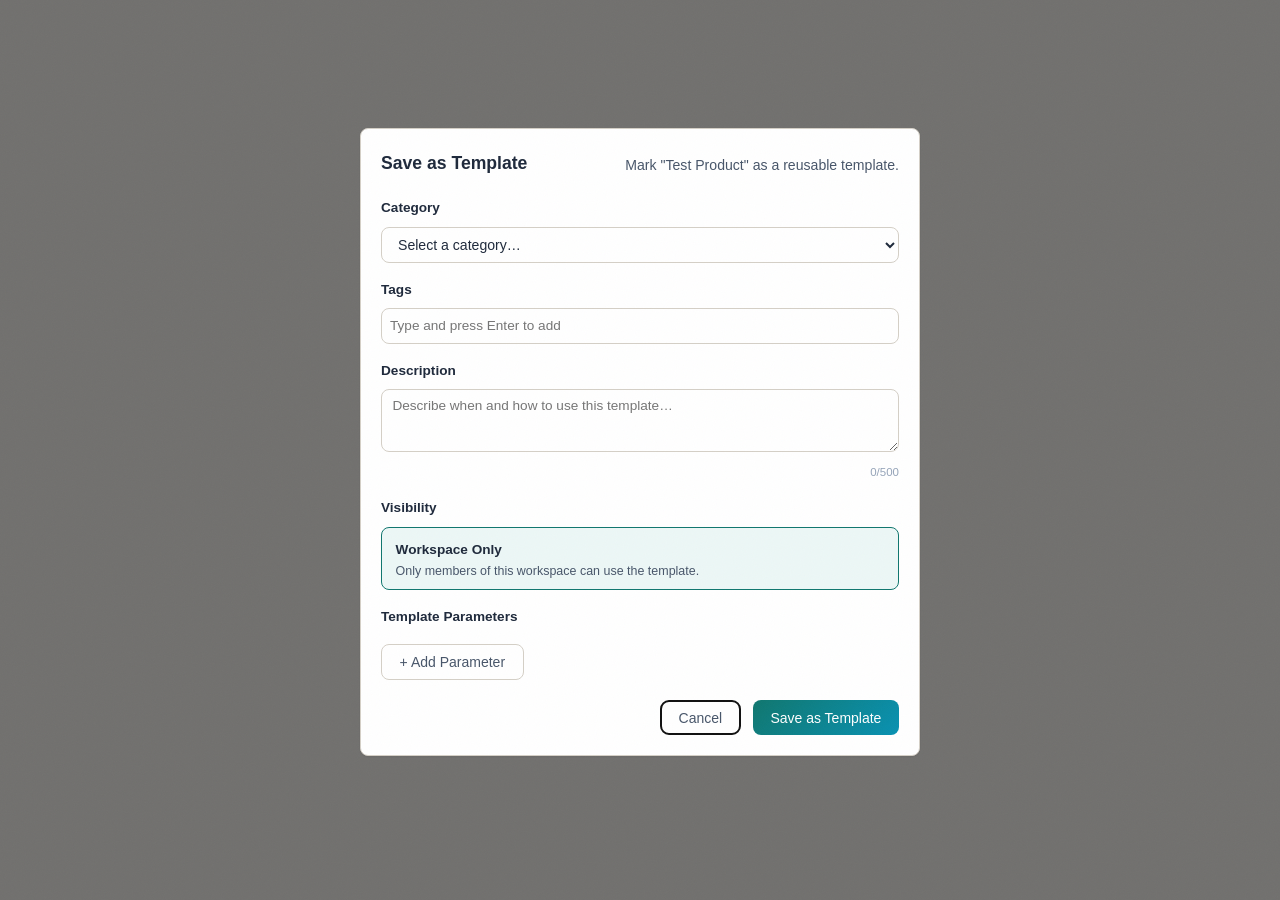
Scenario: TemplateConfigDialog › displays error on 403
Step 1. Click the button "Save as Template" → [826, 718], box [753,700,899,735]
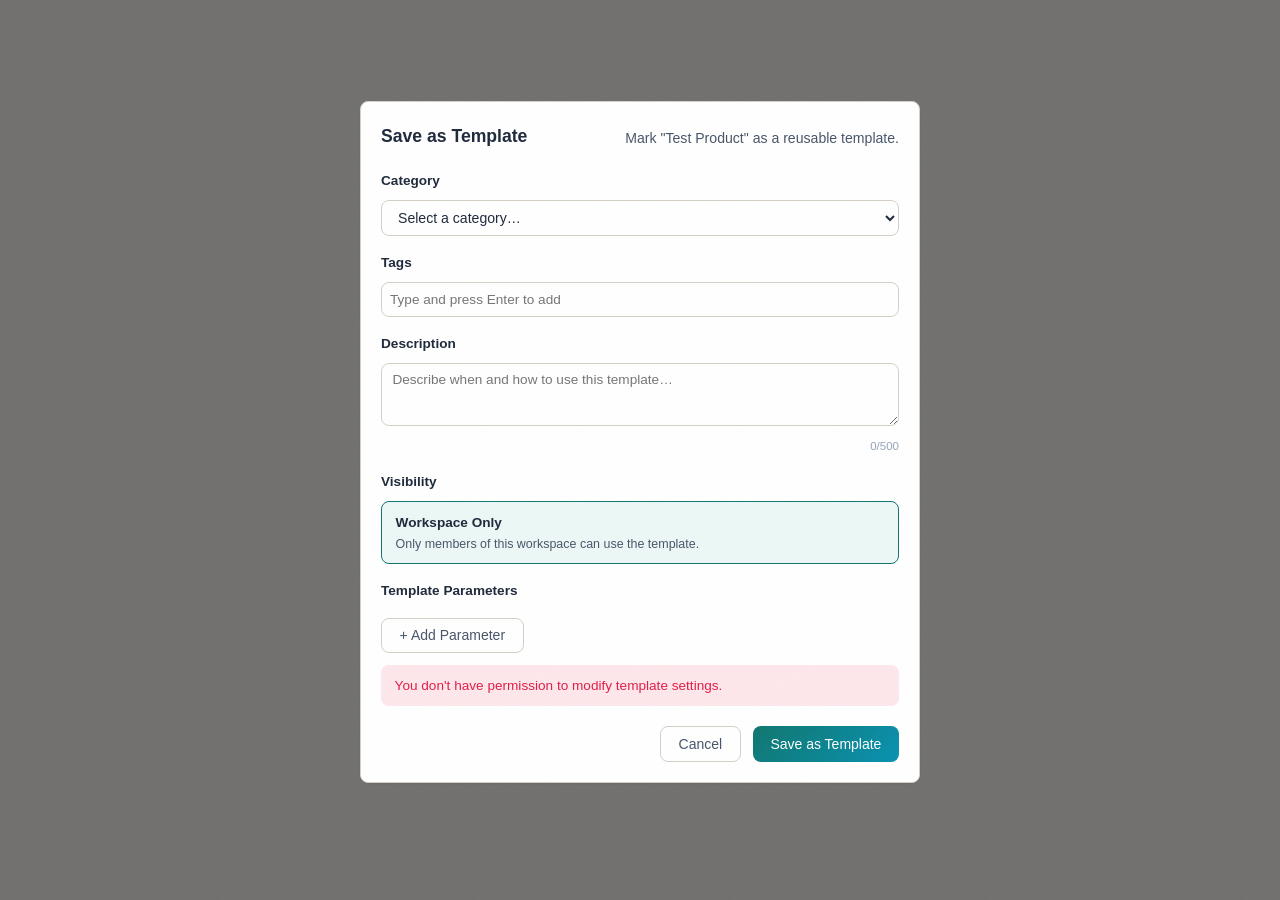
Expected: the message shows "permission", [395,678,722,693]
